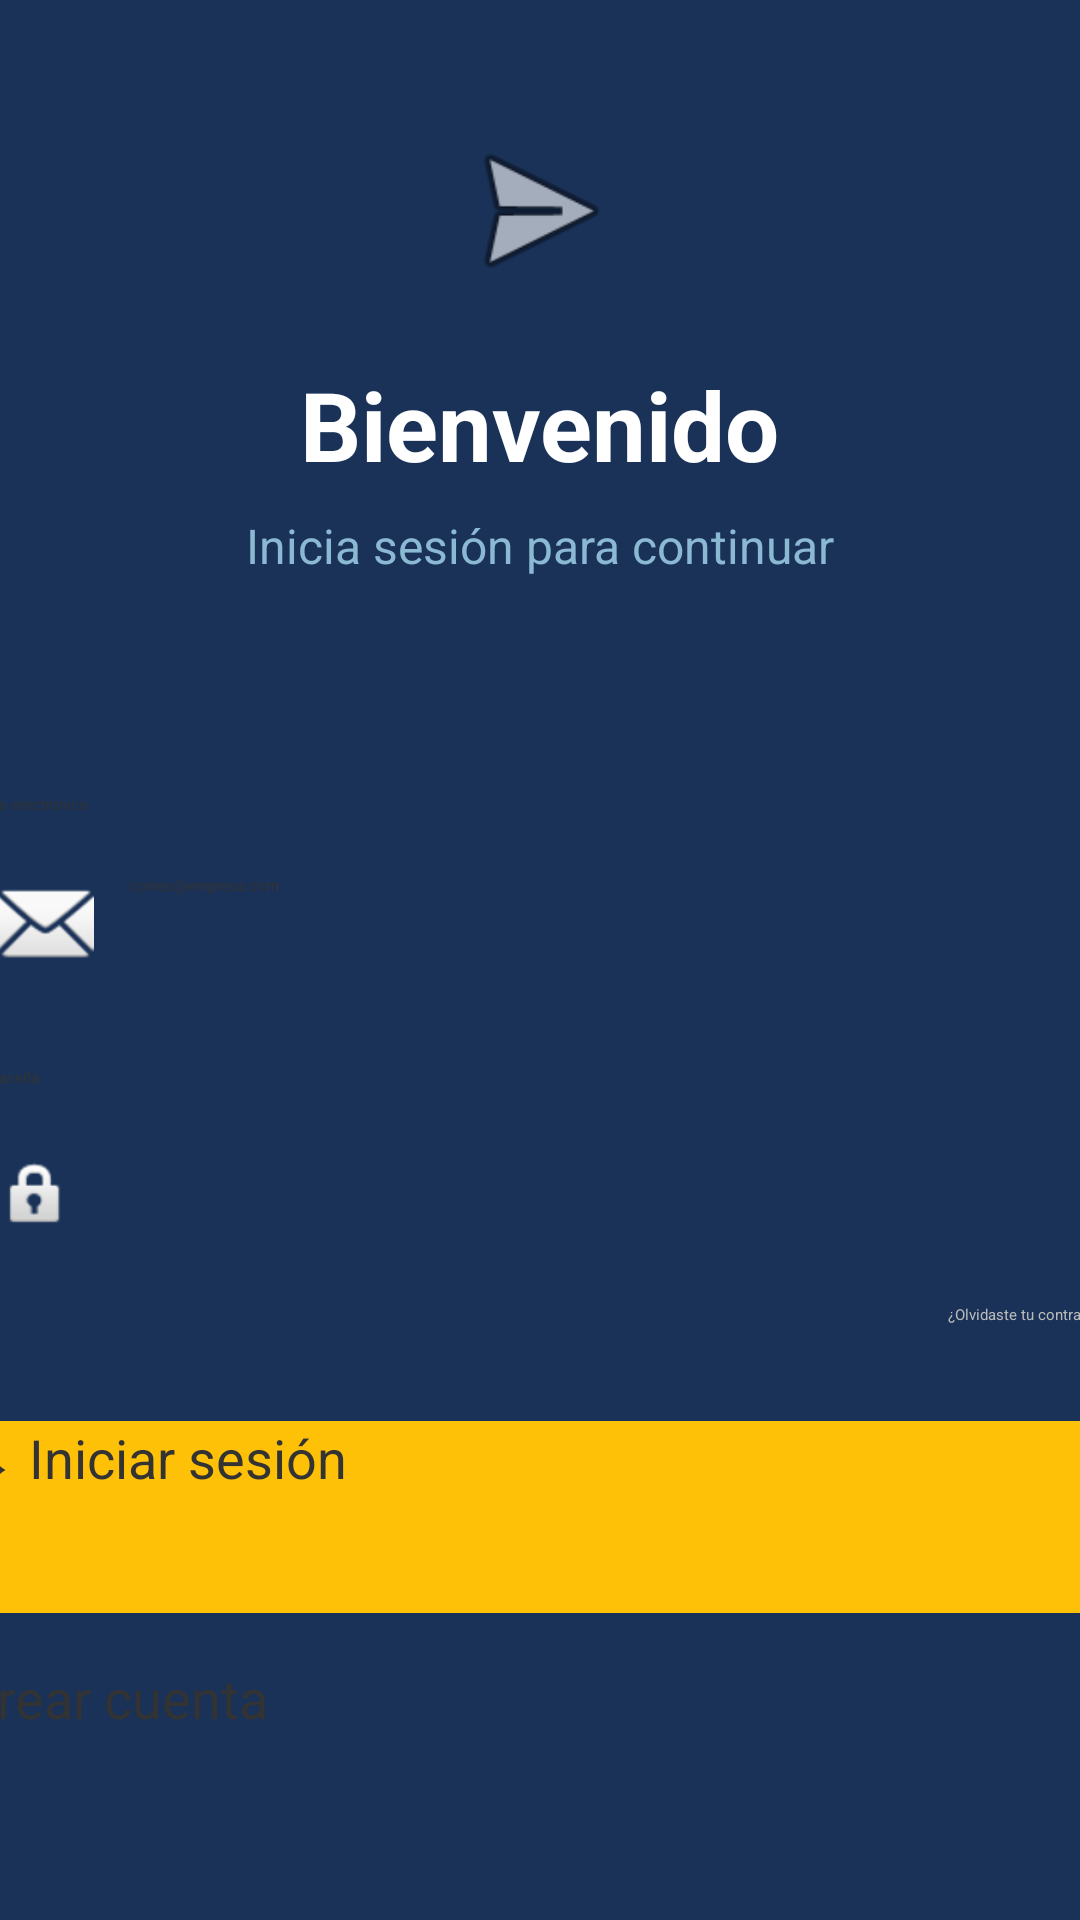

Icons on this 1080×1920 Android screen, each with the point to tap as (x,y):
send: (541,210)
